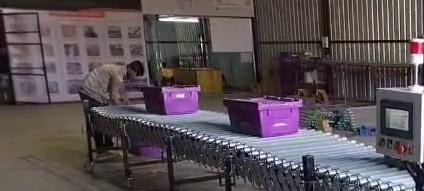box: (223, 96, 302, 137), (142, 86, 200, 114)
